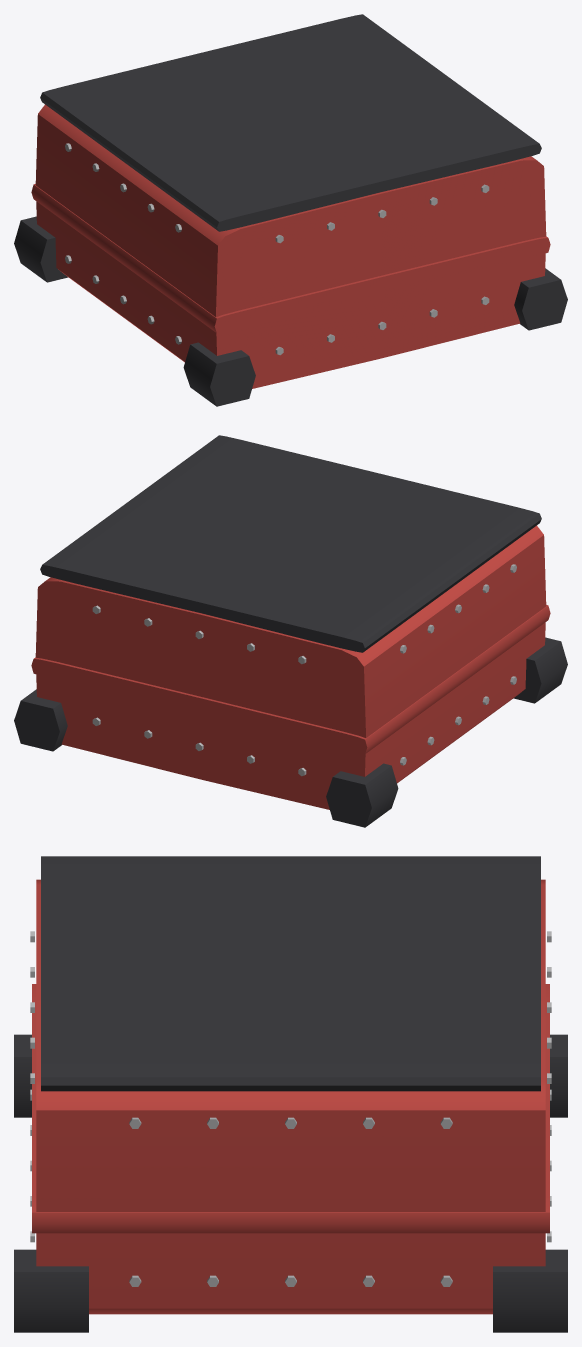
The model's file is alu_top.glb.
3 renders of one model, top to bottom at view 1: azimuth 30°, elevation 25°; view 2: azimuth 150°, elevation 25°; view 3: azimuth 270°, elevation 25°, orthographic. The views are drawn at different scales.
Visible parts, largest first — view 1: lod0; view 2: lod0; view 3: lod0.
Boxes of the visible parts, x1,y1,x2,y2 form: lod0: [14, 14, 567, 406]; lod0: [14, 435, 567, 827]; lod0: [14, 856, 567, 1332].
Size of what is drawn, in the model's own units: 0.39 by 0.1829 by 0.37.
